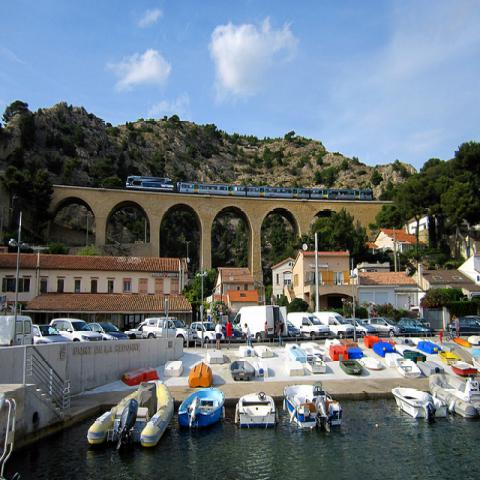car: (210, 314, 255, 352), (142, 318, 198, 347), (50, 317, 103, 342), (313, 311, 355, 338), (398, 317, 437, 340), (32, 324, 73, 345), (190, 321, 225, 344), (368, 317, 406, 337), (124, 318, 160, 339), (88, 322, 129, 339), (346, 319, 378, 338), (448, 317, 479, 336), (220, 321, 246, 343), (287, 319, 302, 337)
truck: (234, 304, 288, 340), (141, 318, 198, 348), (287, 314, 330, 334)
